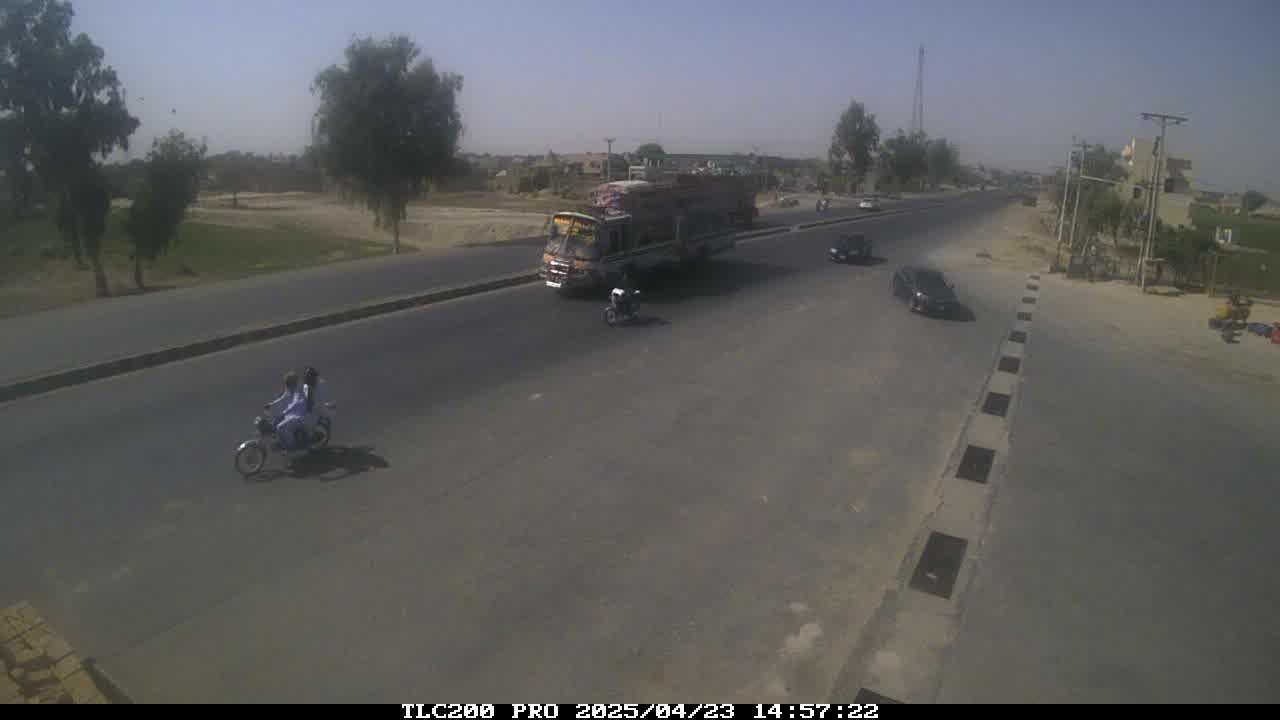bus: (531, 160, 758, 299)
motorcycle: (230, 360, 342, 492)
